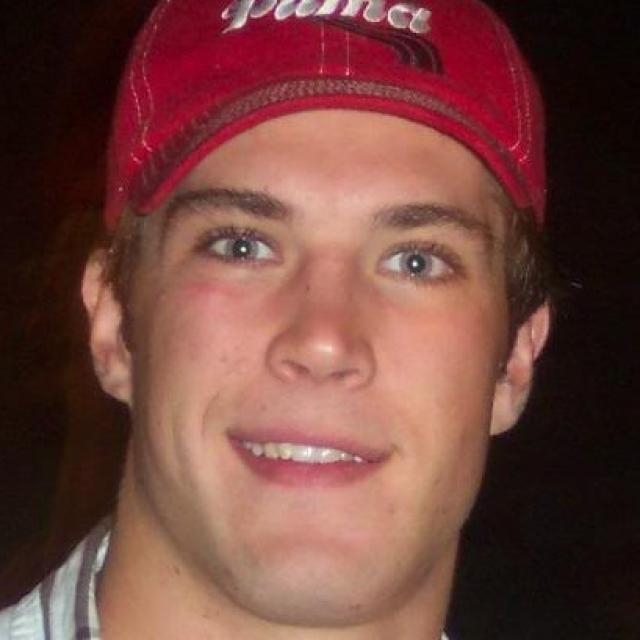Normal: (127, 111, 513, 628)
